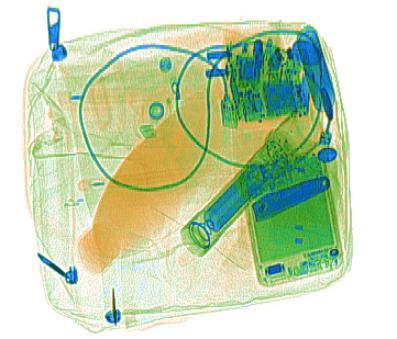battery: (204, 163, 268, 233), (295, 27, 335, 112)
